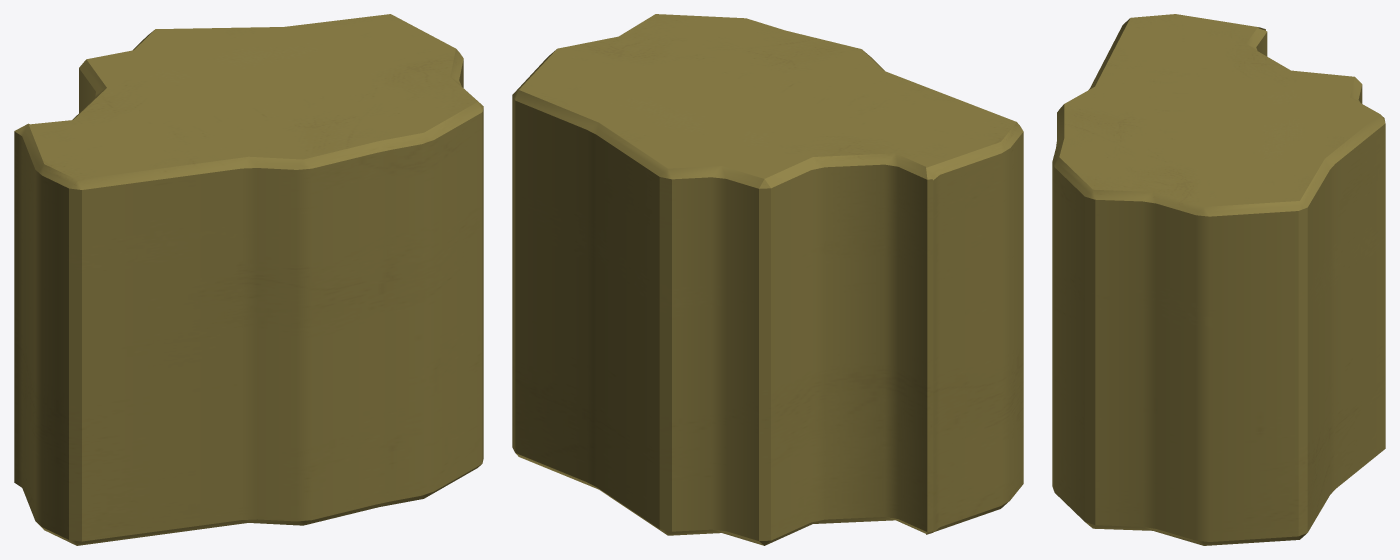
File: eastprussia.DAE
3 views of the same model, side by side, from view 1: azimuth 30°, elevation 25°; view 2: azimuth 150°, elevation 25°; view 3: azimuth 270°, elevation 25° (orthographic). The views are drawn at different scales.
Visible parts, largest first — view 1: EastPrussia; view 2: EastPrussia; view 3: EastPrussia.
Part boxes in pixels (x1,y1,x2,y2): EastPrussia: [14, 14, 483, 545]; EastPrussia: [512, 14, 1023, 545]; EastPrussia: [1052, 14, 1385, 545].
Bounding box in the file's own units: 31.4 × 22.26 × 25.
Materials: 1 (1 with a texture image).
